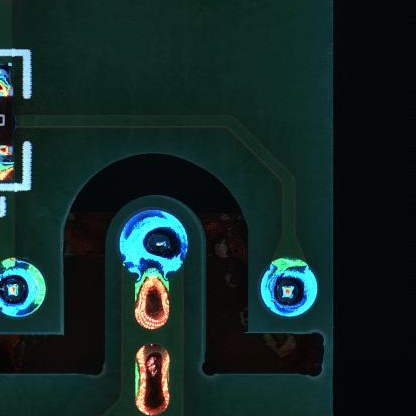spot: (120, 207, 189, 277), (258, 257, 318, 318), (1, 258, 47, 319)
